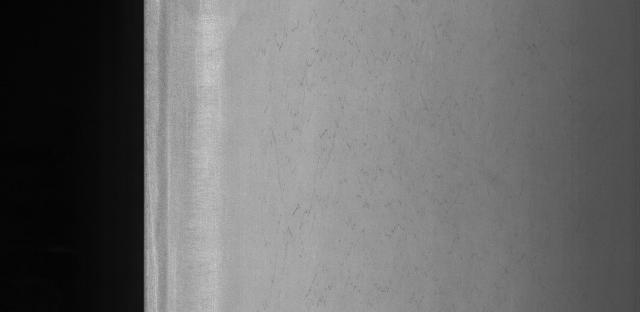silk_spot: (271, 21, 512, 270)
